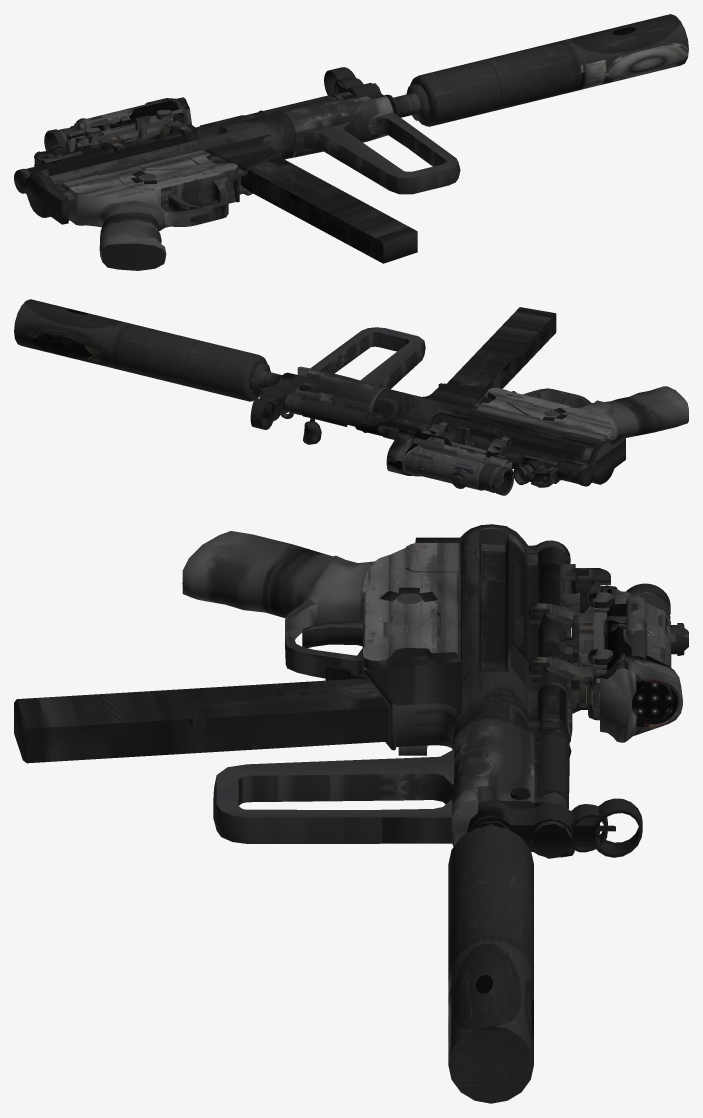
The model's file is t5_weapon_mp5_viewmodel.glb.
3 views of the same model, one above another, from view 1: azimuth 30°, elevation 25°; view 2: azimuth 150°, elevation 25°; view 3: azimuth 270°, elevation 25° (orthographic). The views are drawn at different scales.
Visible parts, largest first — view 1: t5_weapon_mp5_viewmodel; view 2: t5_weapon_mp5_viewmodel; view 3: t5_weapon_mp5_viewmodel.
Boxes of the visible parts, <box> form: t5_weapon_mp5_viewmodel: <box>14,14,688,270</box>; t5_weapon_mp5_viewmodel: <box>14,299,688,495</box>; t5_weapon_mp5_viewmodel: <box>14,524,688,1103</box>.
Size of the model in its own units: 0.6681 by 0.061 by 0.3678.
Materials: 12 (11 with a texture image).
